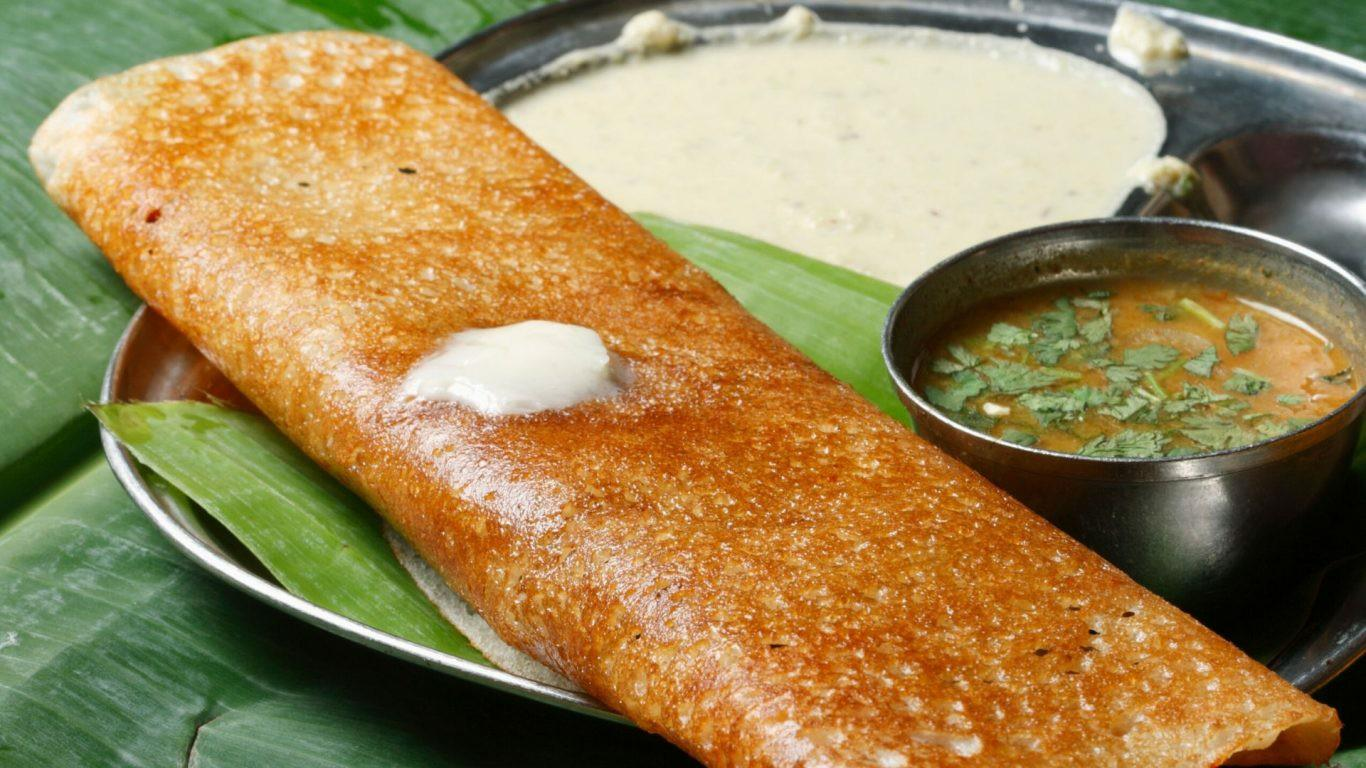Dosa: (29, 32, 1342, 768)
